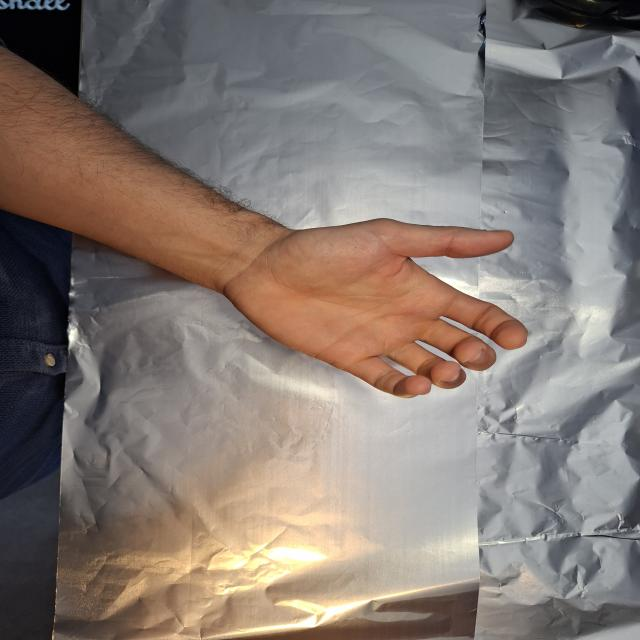glove_off: (223, 216, 532, 402)
